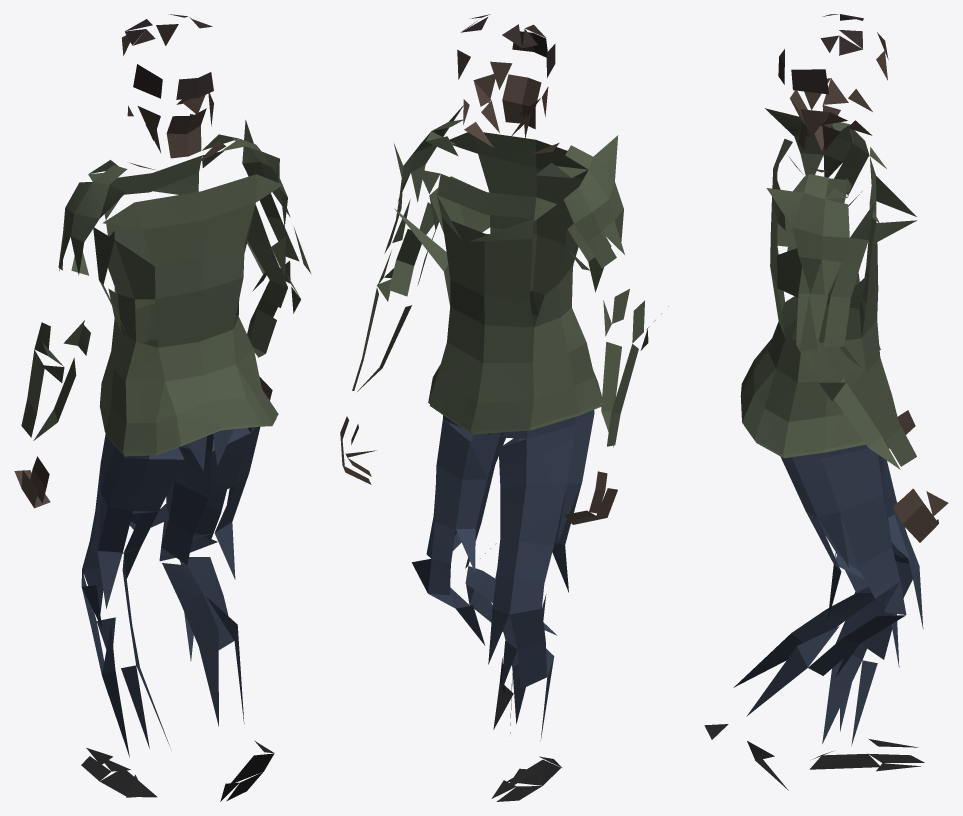
File: personfar_1_w2.fbx
3 renders of one model, left to right at view 1: azimuth 30°, elevation 25°; view 2: azimuth 150°, elevation 25°; view 3: azimuth 270°, elevation 25°, orthographic. The views are drawn at different scales.
Visible parts, largest first — view 1: BaseHuman; view 2: BaseHuman; view 3: BaseHuman.
Boxes of the visible parts, x1,y1,x2,y2 form: BaseHuman: (14,14,311,801); BaseHuman: (340,14,668,801); BaseHuman: (704,14,948,790).
Bounding box in the file's own units: 0.3788 × 0.9789 × 0.2843.
